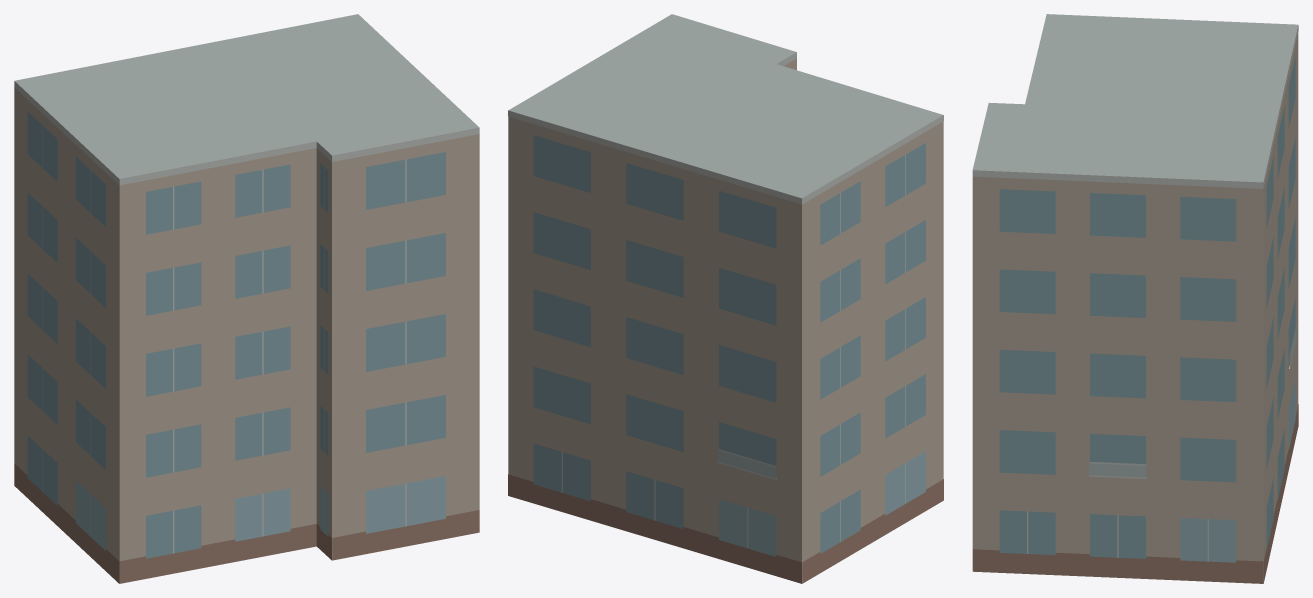
The model's file is survey-upis-32806182.glb.
The picture shows the model from 3 angles, left to right: view 1: azimuth 30°, elevation 25°; view 2: azimuth 150°, elevation 25°; view 3: azimuth 270°, elevation 25°; orthographic projection. The views are drawn at different scales.
Visible parts, largest first — view 1: survey-upis-32806182.tmp; view 2: survey-upis-32806182.tmp; view 3: survey-upis-32806182.tmp.
Part boxes in pixels (x1,y1,x2,y2): survey-upis-32806182.tmp: (14, 14, 479, 583); survey-upis-32806182.tmp: (508, 14, 943, 583); survey-upis-32806182.tmp: (972, 14, 1298, 583).
Size of the model in its own units: 13.78 by 15.3 by 11.27.
